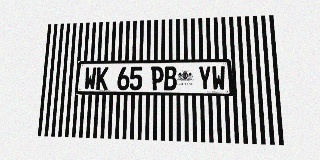5: (130, 67, 142, 90)
6: (117, 67, 130, 90)
B: (164, 66, 177, 90)
K: (96, 67, 109, 90)
P: (151, 66, 164, 90)
W: (211, 66, 226, 91), (84, 67, 97, 90)
Y: (198, 66, 212, 90)
